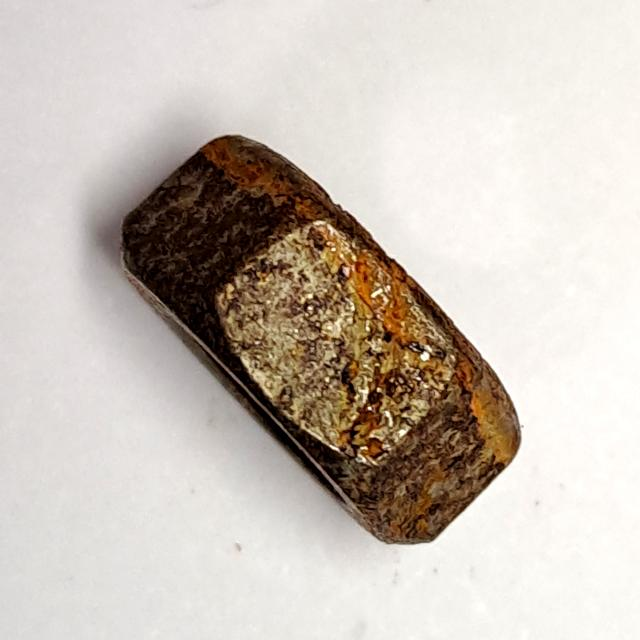Side_Rust: (109, 117, 536, 564)
